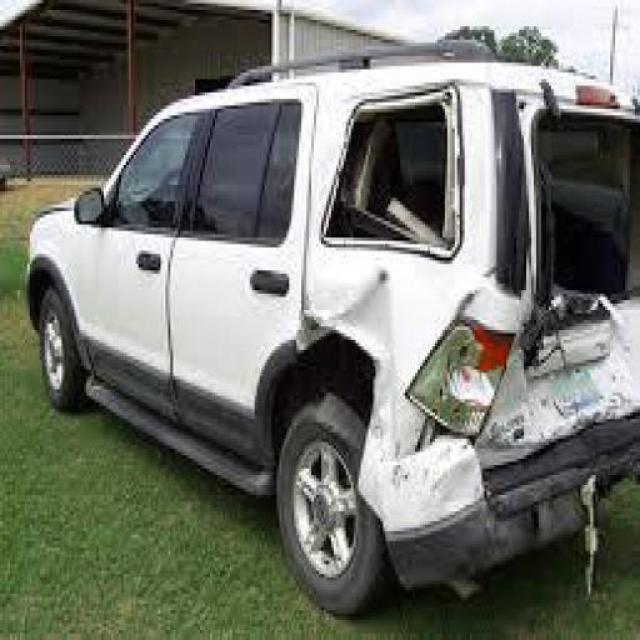car damage: (296, 89, 640, 597)
